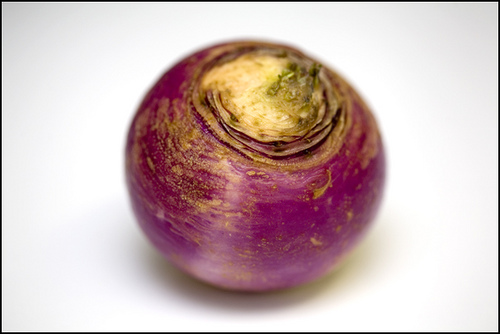turnip: (126, 41, 387, 297)
